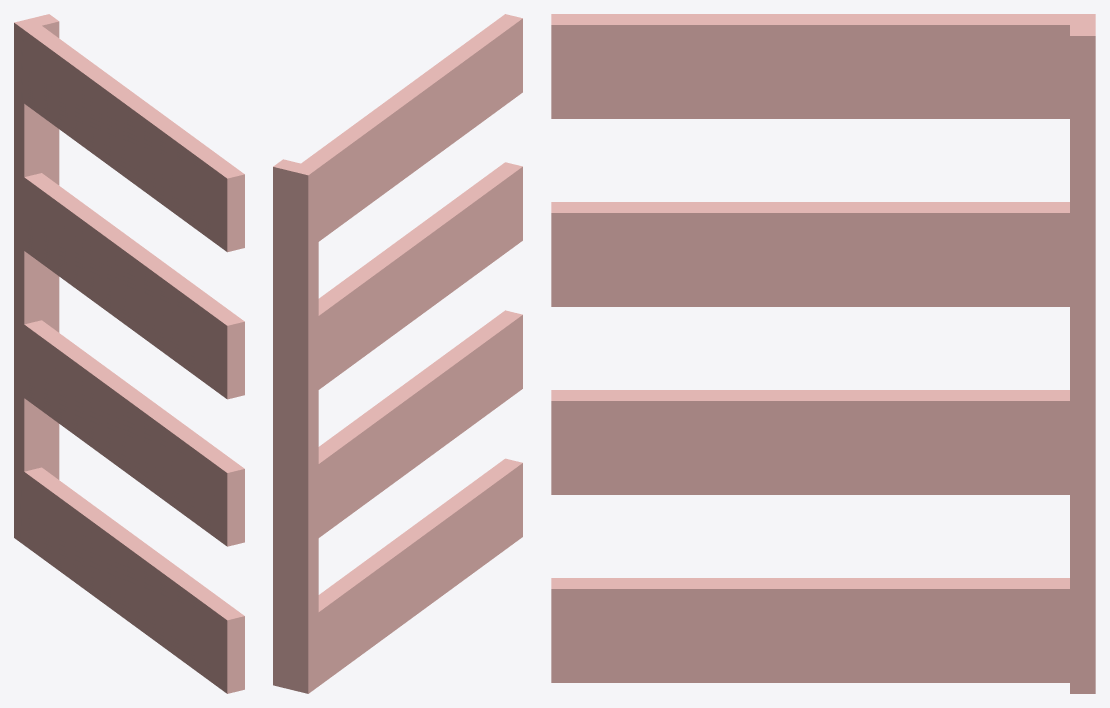
Rendered from Building1_modular_PH.fbx.
3 renders of one model, left to right at view 1: azimuth 30°, elevation 25°; view 2: azimuth 150°, elevation 25°; view 3: azimuth 270°, elevation 25°, orthographic. The views are drawn at different scales.
Parts seen in each view (by area): view 1: BuildingBorer__2_, BuildingBorder__4_, BuildingBorder__8_, BuildingBorder__6_, BuildingBorder; view 2: BuildingBorder, BuildingBorder__8_, BuildingBorer__2_, BuildingBorder__4_, BuildingBorder__6_; view 3: BuildingBorer__2_, BuildingBorder__4_, BuildingBorder__6_, BuildingBorder__8_, BuildingBorder.
Boxes of the visible parts, left/top/right/bottom form: BuildingBorer__2_: left=24, top=467, right=244, bottom=693; BuildingBorder__4_: left=24, top=320, right=244, bottom=546; BuildingBorder__8_: left=24, top=25, right=244, bottom=252; BuildingBorder__6_: left=24, top=173, right=244, bottom=399; BuildingBorder: left=14, top=14, right=59, bottom=544; BuildingBorder: left=273, top=159, right=318, bottom=693; BuildingBorder__8_: left=301, top=14, right=522, bottom=241; BuildingBorer__2_: left=318, top=458, right=522, bottom=685; BuildingBorder__4_: left=318, top=310, right=522, bottom=537; BuildingBorder__6_: left=318, top=162, right=522, bottom=389; BuildingBorer__2_: left=551, top=578, right=1069, bottom=682; BuildingBorder__4_: left=551, top=390, right=1069, bottom=494; BuildingBorder__6_: left=551, top=202, right=1069, bottom=306; BuildingBorder__8_: left=551, top=14, right=1069, bottom=118; BuildingBorder: left=1070, top=14, right=1095, bottom=693.
Bounding box in the file's own units: 100 × 1400 × 1050.
